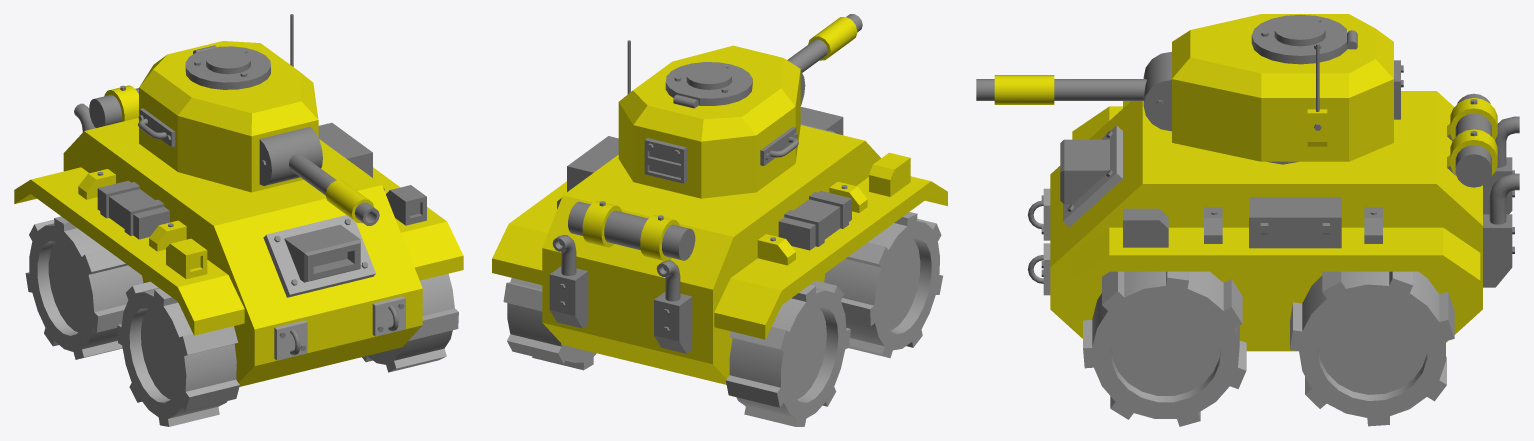
Rendered from tank_BOSS.fbx.
The picture shows the model from 3 angles, left to right: view 1: azimuth 30°, elevation 25°; view 2: azimuth 150°, elevation 25°; view 3: azimuth 270°, elevation 25°; orthographic projection. The views are drawn at different scales.
Visible parts, largest first — view 1: polySurface2392; view 2: polySurface2392; view 3: polySurface2392.
Boxes of the visible parts, x1,y1,x2,y2 form: polySurface2392: [14, 14, 463, 426]; polySurface2392: [492, 14, 947, 426]; polySurface2392: [976, 14, 1519, 426].
Bounding box in the file's own units: 204 × 221 × 314.
